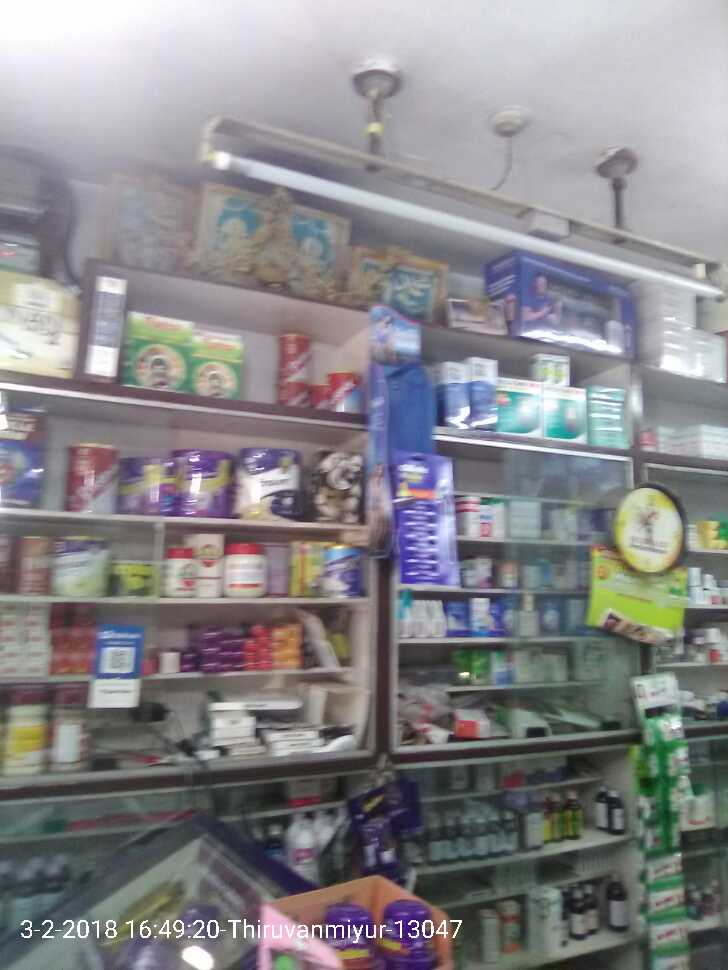reject: (287, 439, 423, 595)
